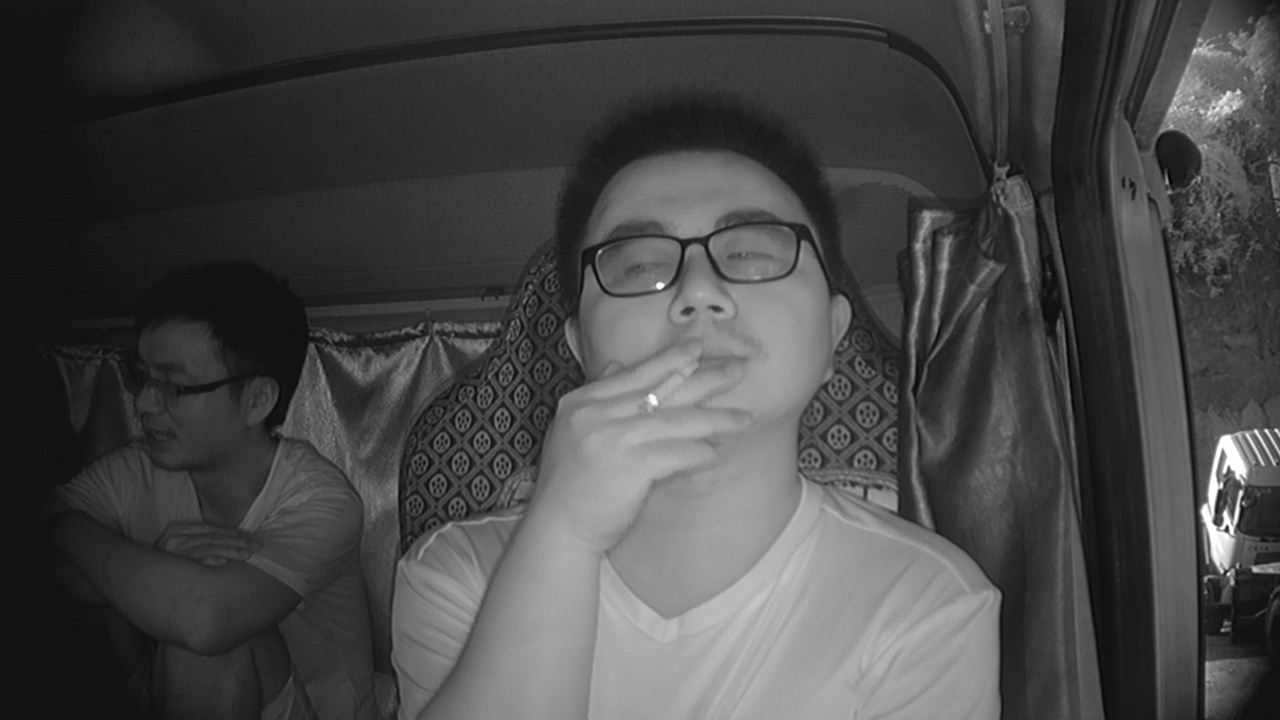hand: (567, 344, 738, 509)
